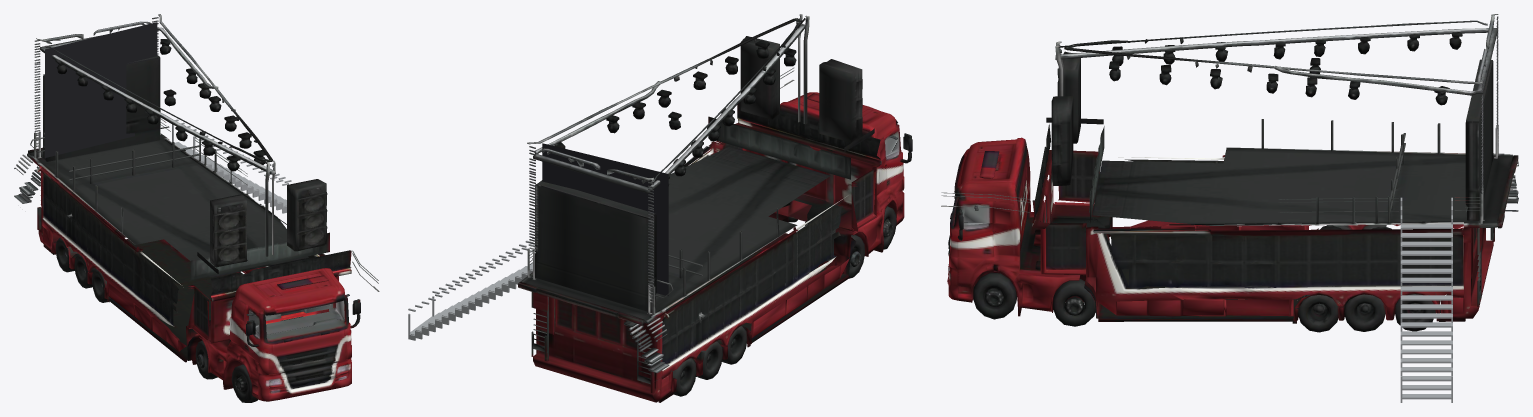
The model's file is palanque-1.glb.
3 renders of one model, left to right at view 1: azimuth 30°, elevation 25°; view 2: azimuth 150°, elevation 25°; view 3: azimuth 270°, elevation 25°, orthographic. The views are drawn at different scales.
Visible parts, largest first — view 1: Palanque, Backdrop, Stairs; view 2: Palanque, Backdrop, Stairs; view 3: Palanque, Stairs.
Boxes of the visible parts, x1=… form: Palanque: x1=14, y1=14, x2=379, y2=402; Backdrop: x1=45, y1=22, x2=157, y2=157; Stairs: x1=172, y1=119, x2=291, y2=213; Palanque: x1=518, y1=14, x2=912, y2=402; Backdrop: x1=542, y1=143, x2=668, y2=295; Stairs: x1=408, y1=238, x2=534, y2=340; Palanque: x1=941, y1=14, x2=1518, y2=332; Stairs: x1=1400, y1=197, x2=1452, y2=402.
Size of the model in its own units: 11.87 by 9.57 by 19.87.
3 materials, 1 textured.
